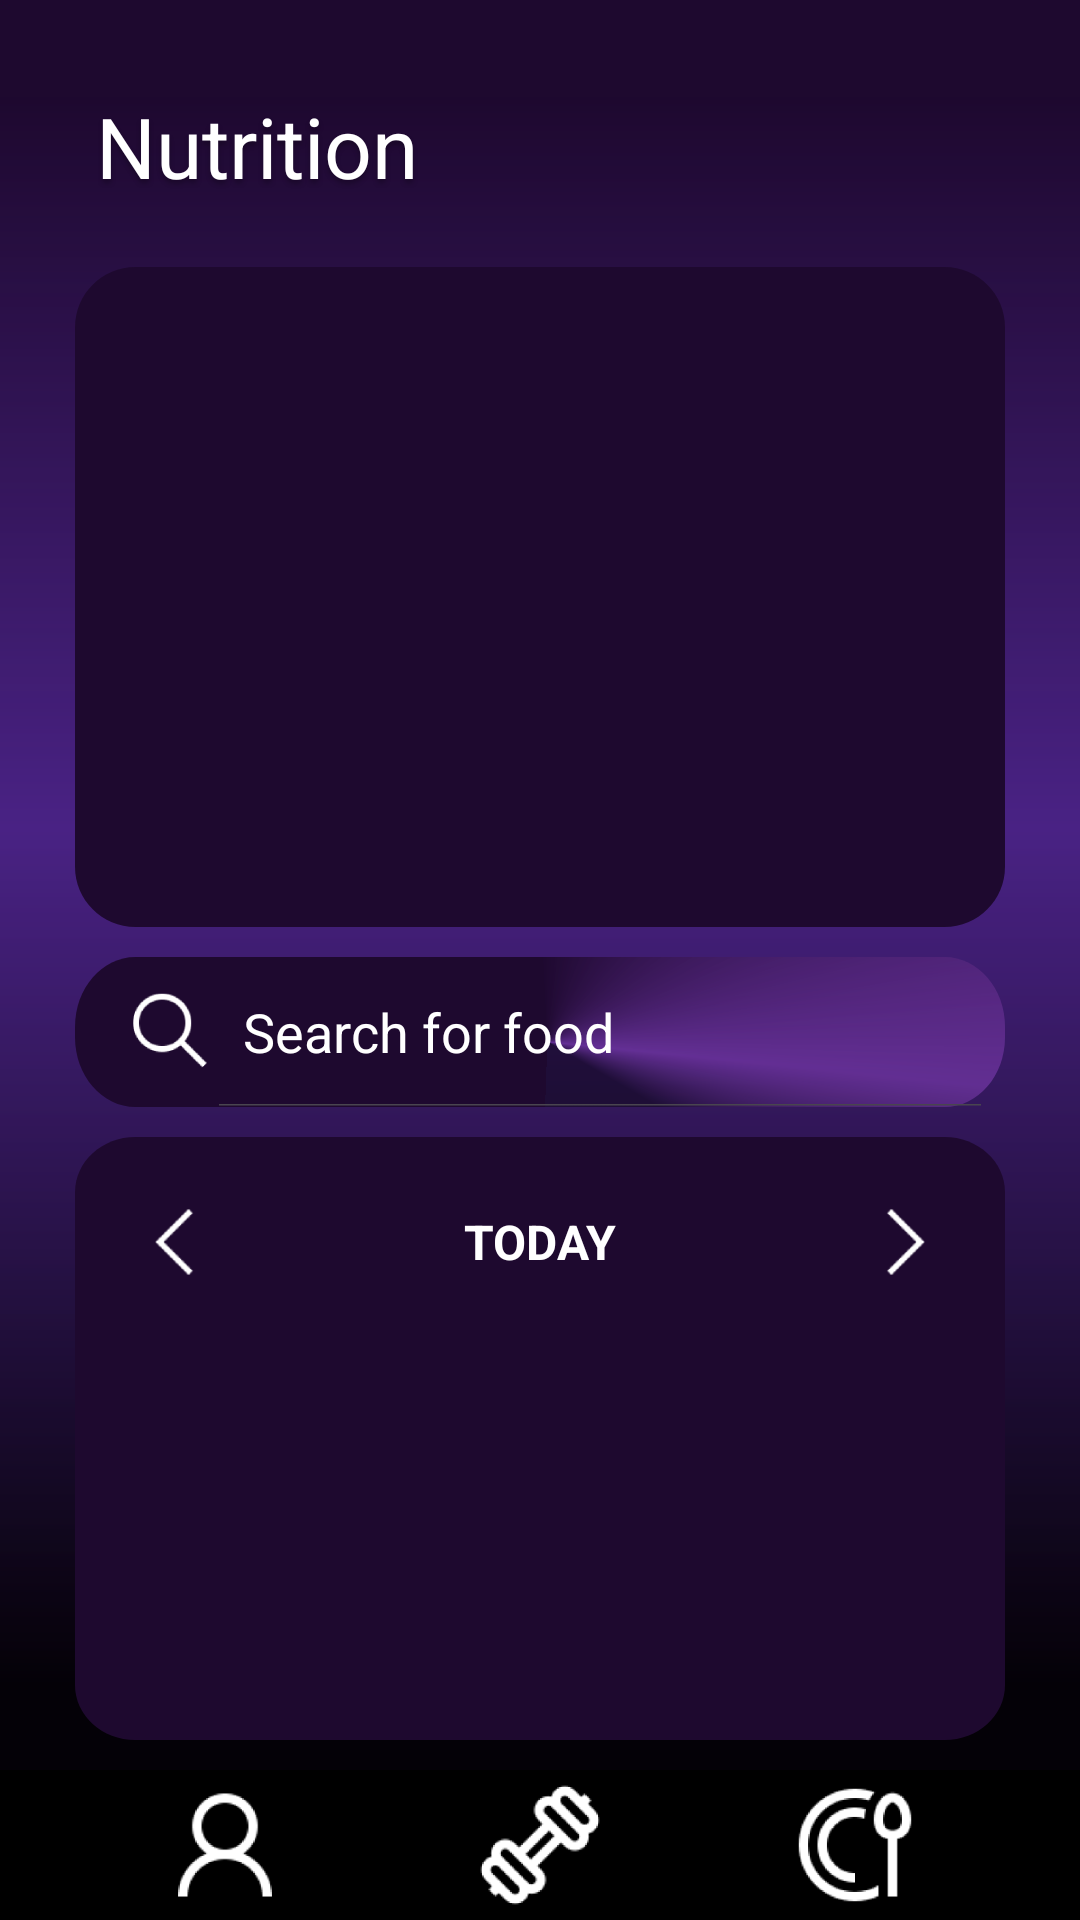

Named icons in this screenshot (1080w x 1920h) and their bounding boxes, BBox(x1, y1, x2, y2):
back: BBox(155, 1209, 193, 1275)
forward: BBox(887, 1209, 925, 1275)
nutrition: BBox(798, 1788, 912, 1902)
person: BBox(178, 1793, 272, 1897)
workout: BBox(480, 1785, 600, 1905)
